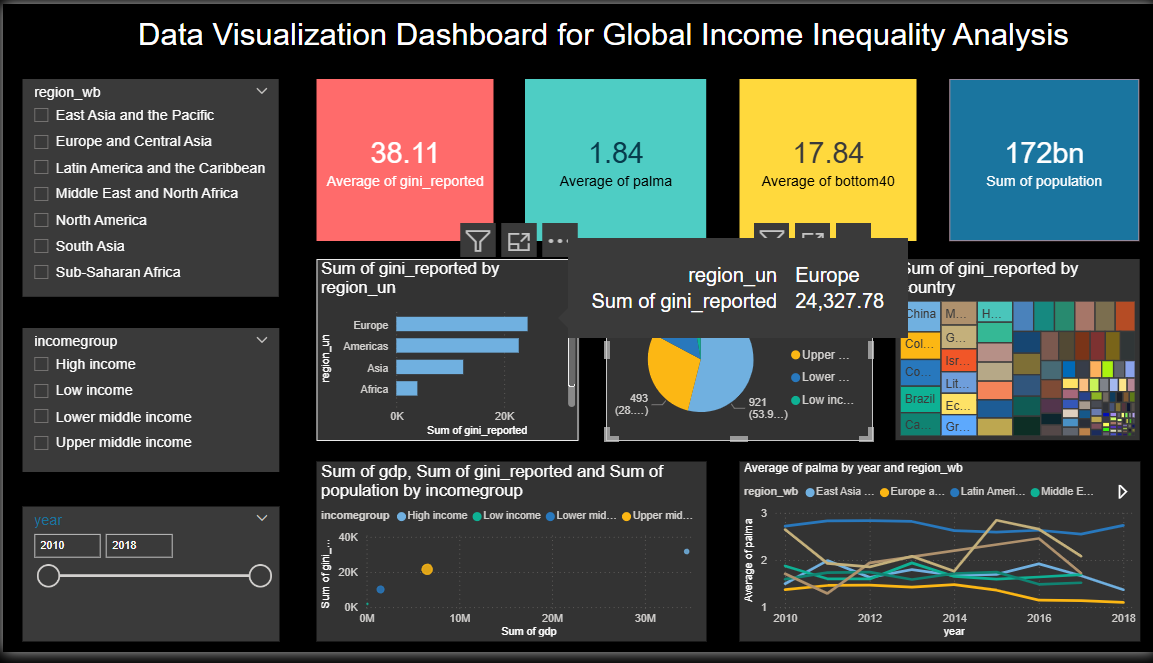

Layout of this report page (visuals, bound fields, positions):
{"tool":"powerbi","page":{"name":"Page 1","canvas":[1280,720],"ordinal":0},"visuals":[{"type":"card","fields":{"Values":["Avg(WIID_Final_Cleaned_2010_2024.gini_reported)"]},"box":[348.3,83.3,196.8,180.2],"z":0},{"type":"card","fields":{"Values":["Avg(WIID_Final_Cleaned_2010_2024.palma)"]},"box":[579.9,83.3,201.4,180.2],"z":1000},{"type":"card","fields":{"Values":["Avg(WIID_Final_Cleaned_2010_2024.bottom40)"]},"box":[817.7,83.3,196.8,180.2],"z":2000},{"type":"card","fields":{"Values":["Sum(WIID_Final_Cleaned_2010_2024.population)"]},"box":[1052.4,83.3,210.5,180.2],"z":3000},{"type":"lineChart","fields":{"Category":["WIID_Final_Cleaned_2010_2024.year"],"Y":["Avg(WIID_Final_Cleaned_2010_2024.palma)"],"Series":["WIID_Final_Cleaned_2010_2024.region_wb"]},"box":[817.7,508.8,445.2,199.9],"z":4000},{"type":"scatterChart","fields":{"X":["Sum(WIID_Final_Cleaned_2010_2024.gdp_ppp_pc_usd2011)"],"Y":["Sum(WIID_Final_Cleaned_2010_2024.gini_reported)"],"Series":["WIID_Final_Cleaned_2010_2024.incomegroup"],"Size":["Sum(WIID_Final_Cleaned_2010_2024.population)"]},"box":[348.3,508.8,433.1,199.9],"z":5000},{"type":"clusteredBarChart","fields":{"Y":["Sum(WIID_Final_Cleaned_2010_2024.gini_reported)"],"Category":["WIID_Final_Cleaned_2010_2024.region_un"]},"box":[348.3,283.2,292.2,201.4],"z":6000},{"type":"slicer","fields":{"Values":["WIID_Final_Cleaned_2010_2024.region_wb"]},"box":[21.2,83.3,284.7,242.3],"z":7000},{"type":"slicer","fields":{"Values":["WIID_Final_Cleaned_2010_2024.incomegroup"]},"box":[21.7,360,285,160],"z":8000},{"type":"slicer","fields":{"Values":["WIID_Final_Cleaned_2010_2024.year"]},"box":[21.7,558.3,285,150],"z":9000},{"type":"treemap","fields":{"Group":["WIID_Final_Cleaned_2010_2024.country"],"Values":["Sum(WIID_Final_Cleaned_2010_2024.gini_reported)"]},"box":[991.8,283.2,271,201.4],"z":10000},{"type":"pieChart","fields":{"Category":["WIID_Final_Cleaned_2010_2024.incomegroup"],"Y":["CountNonNull(WIID_Final_Cleaned_2010_2024.country)"]},"box":[669.3,283.2,296.8,201.4],"z":11000},{"type":"textbox","title":"Data Visualization Dashboard for Global Income Inequality Analysis","box":[145.4,13.6,1117.5,45.4],"z":12000}]}

Visuals, with their boxes in screenshot pixels (x1, y1, x2, y2), scaled from the page's 1280x720 canvas onto the 1153x663 screenshot:
card - Avg(WIID_Final_Cleaned_2010_2024.gini_reported): 314/77/491/243
card - Avg(WIID_Final_Cleaned_2010_2024.palma): 522/77/704/243
card - Avg(WIID_Final_Cleaned_2010_2024.bottom40): 737/77/914/243
card - Sum(WIID_Final_Cleaned_2010_2024.population): 948/77/1138/243
lineChart - WIID_Final_Cleaned_2010_2024.year x Avg(WIID_Final_Cleaned_2010_2024.palma): 737/469/1138/653
scatterChart - Sum(WIID_Final_Cleaned_2010_2024.gdp_ppp_pc_usd2011) x Sum(WIID_Final_Cleaned_2010_2024.gini_reported): 314/469/704/653
clusteredBarChart - Sum(WIID_Final_Cleaned_2010_2024.gini_reported) x WIID_Final_Cleaned_2010_2024.region_un: 314/261/577/446
slicer - WIID_Final_Cleaned_2010_2024.region_wb: 19/77/276/300
slicer - WIID_Final_Cleaned_2010_2024.incomegroup: 20/332/276/479
slicer - WIID_Final_Cleaned_2010_2024.year: 20/514/276/652
treemap - WIID_Final_Cleaned_2010_2024.country x Sum(WIID_Final_Cleaned_2010_2024.gini_reported): 893/261/1138/446
pieChart - WIID_Final_Cleaned_2010_2024.incomegroup x CountNonNull(WIID_Final_Cleaned_2010_2024.country): 603/261/870/446
"Data Visualization Dashboard for Global Income Inequality Analysis" textbox: 131/13/1138/54
